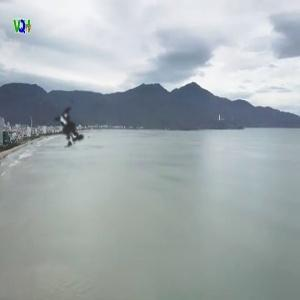drone: (23, 77, 124, 178)
